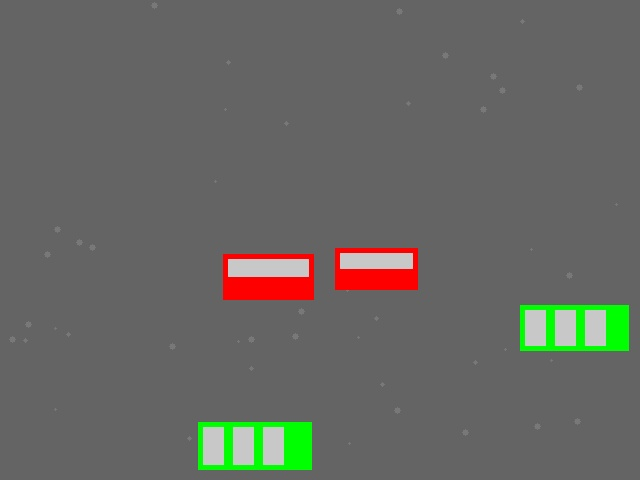bus: (198, 422, 311, 469), (520, 305, 628, 350)
car: (223, 254, 313, 299), (335, 248, 417, 289)
